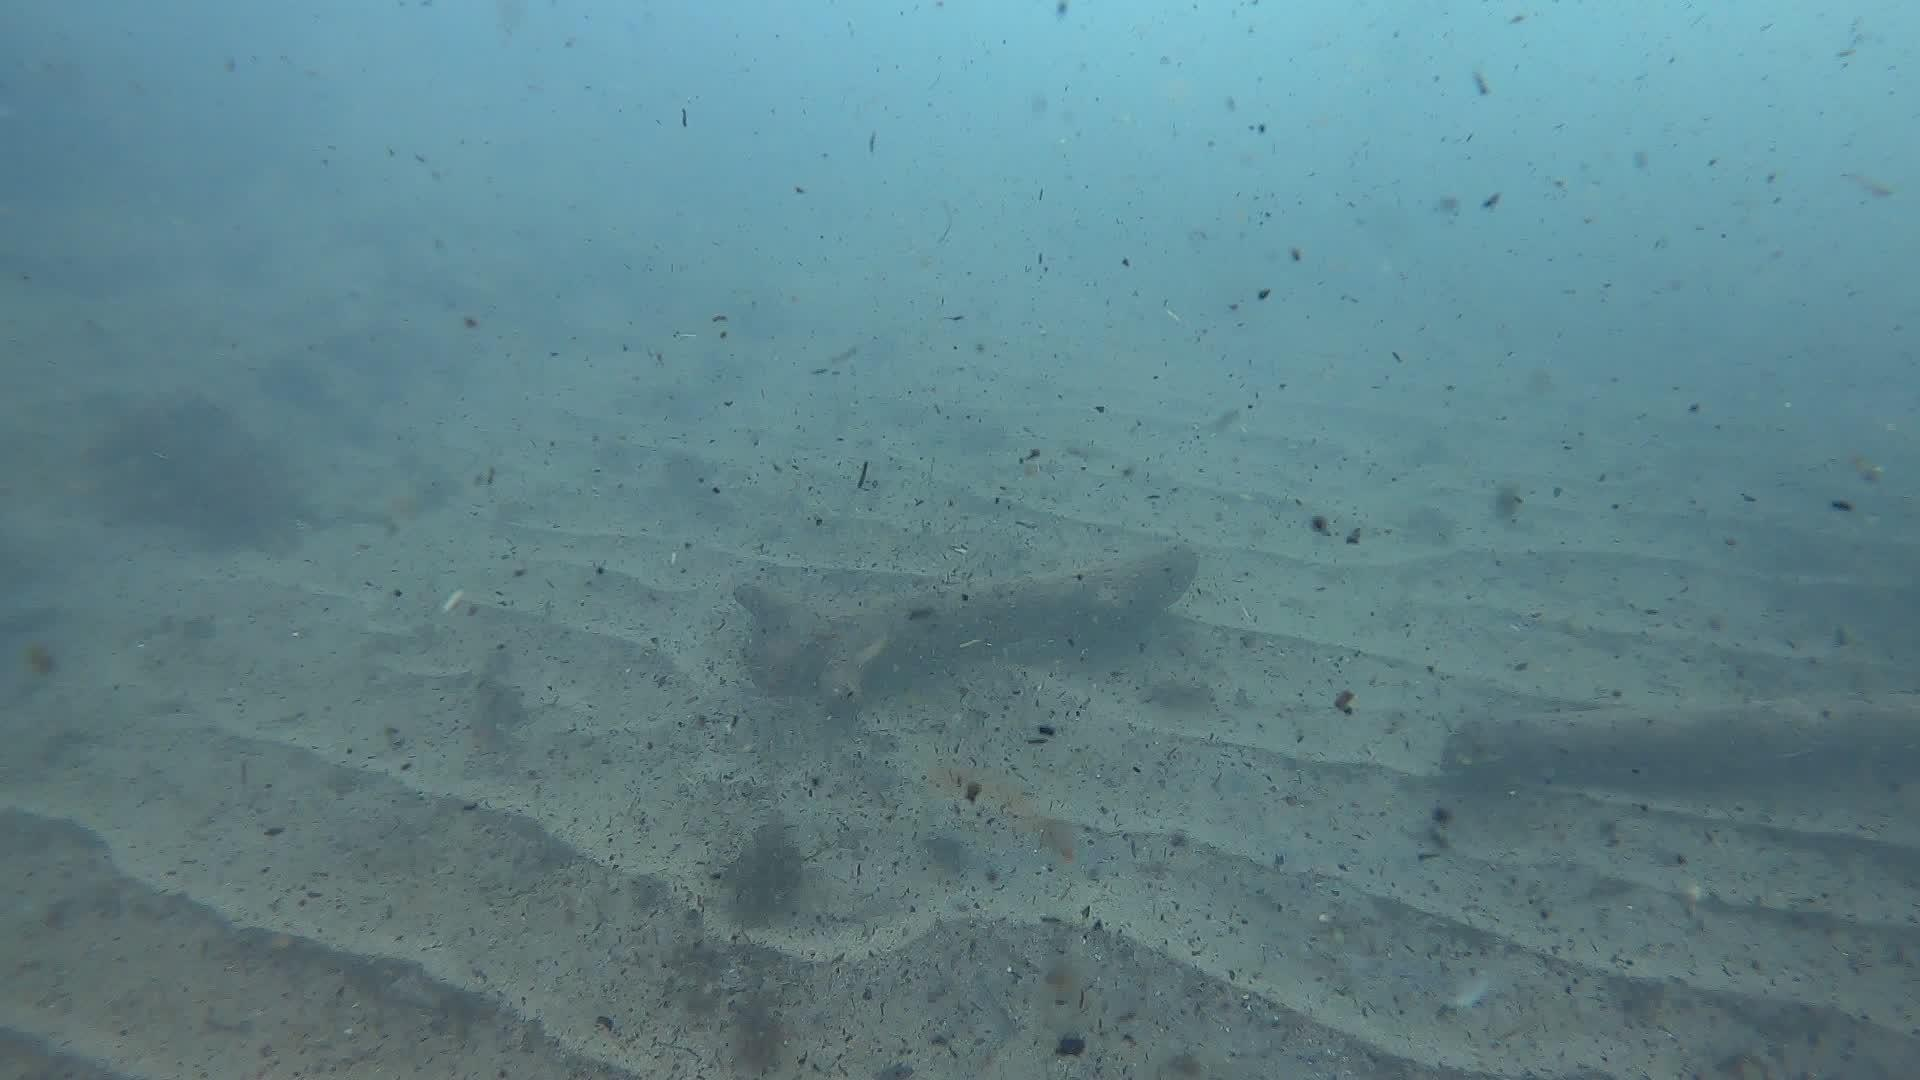wood: (735, 537, 1193, 713), (1441, 688, 1915, 778)
